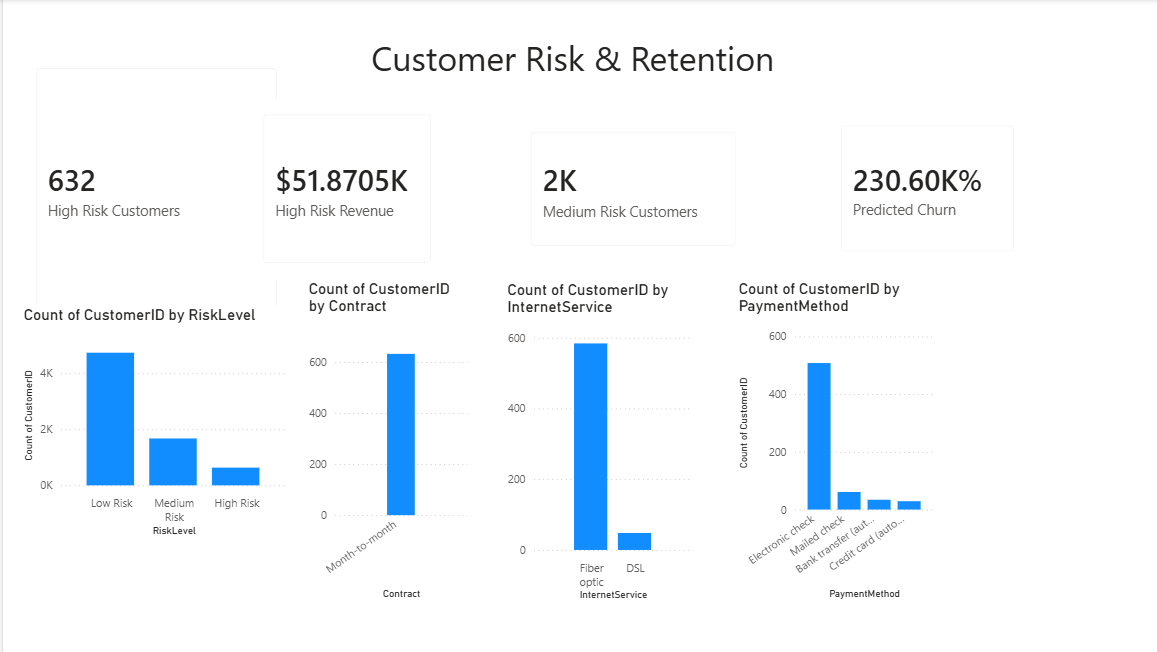

The dashboard page shown, as its layout file describes it:
{"tool":"powerbi","page":{"name":"Customer Risk & Retention","canvas":[1280,720],"ordinal":1},"visuals":[{"type":"textbox","box":[400.7,34.3,477.5,75.5],"z":0},{"type":"cardVisual","fields":{"Data":["churn_dashboard_data.High Risk Customers"]},"box":[19.2,59,300,300],"z":1000},{"type":"cardVisual","fields":{"Data":["churn_dashboard_data.High Risk Revenue"]},"box":[270.3,109.8,219.6,199],"z":2000},{"type":"cardVisual","fields":{"Data":["churn_dashboard_data.Medium Risk Customers"]},"box":[565.4,129,260.7,160.5],"z":3000},{"type":"cardVisual","fields":{"Data":["churn_dashboard_data.Predicted Churn"]},"box":[907,122.1,225,172.9],"z":4000},{"type":"clusteredColumnChart","fields":{"Category":["churn_dashboard_data.RiskLevel"],"Y":["CountNonNull(churn_dashboard_data.CustomerID)"]},"box":[17.8,337.6,300.5,259.3],"z":5000},{"type":"clusteredColumnChart","fields":{"Category":["churn_dashboard_data.Contract"],"Y":["CountNonNull(churn_dashboard_data.CustomerID)"]},"box":[332.1,308.7,185.2,358.1],"z":6000},{"type":"clusteredColumnChart","fields":{"Category":["churn_dashboard_data.InternetService"],"Y":["CountNonNull(churn_dashboard_data.CustomerID)"]},"box":[551.6,310.1,214.1,358.1],"z":7000},{"type":"clusteredColumnChart","fields":{"Category":["churn_dashboard_data.PaymentMethod"],"Y":["CountNonNull(churn_dashboard_data.CustomerID)"]},"box":[806.9,308.7,225,358],"z":7001}]}

Visuals, with their boxes in screenshot pixels (x1, y1, x2, y2), scaled from the page's 1280x720 canvas onto the 1157x652 screenshot:
textbox: [x1=362, y1=31, x2=794, y2=99]
cardVisual - churn_dashboard_data.High Risk Customers: [x1=17, y1=53, x2=289, y2=325]
cardVisual - churn_dashboard_data.High Risk Revenue: [x1=244, y1=99, x2=443, y2=280]
cardVisual - churn_dashboard_data.Medium Risk Customers: [x1=511, y1=117, x2=747, y2=262]
cardVisual - churn_dashboard_data.Predicted Churn: [x1=820, y1=111, x2=1023, y2=267]
clusteredColumnChart - churn_dashboard_data.RiskLevel x CountNonNull(churn_dashboard_data.CustomerID): [x1=16, y1=306, x2=288, y2=541]
clusteredColumnChart - churn_dashboard_data.Contract x CountNonNull(churn_dashboard_data.CustomerID): [x1=300, y1=280, x2=468, y2=604]
clusteredColumnChart - churn_dashboard_data.InternetService x CountNonNull(churn_dashboard_data.CustomerID): [x1=499, y1=281, x2=692, y2=605]
clusteredColumnChart - churn_dashboard_data.PaymentMethod x CountNonNull(churn_dashboard_data.CustomerID): [x1=729, y1=280, x2=933, y2=604]
